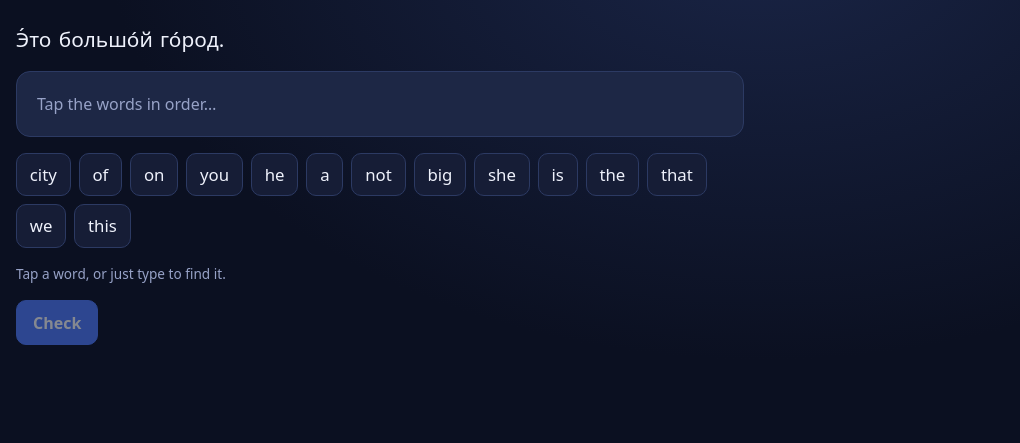
Scenario: WordBankExercise order-insensitive grading (#267) › shows the default translation next to the answer so they can be compared (#513)
What coordinates should you click on to do the following:
click the button with class "tile" showing "this"
I would click on:
 (102, 226)
Its box is [74,204,131,248].
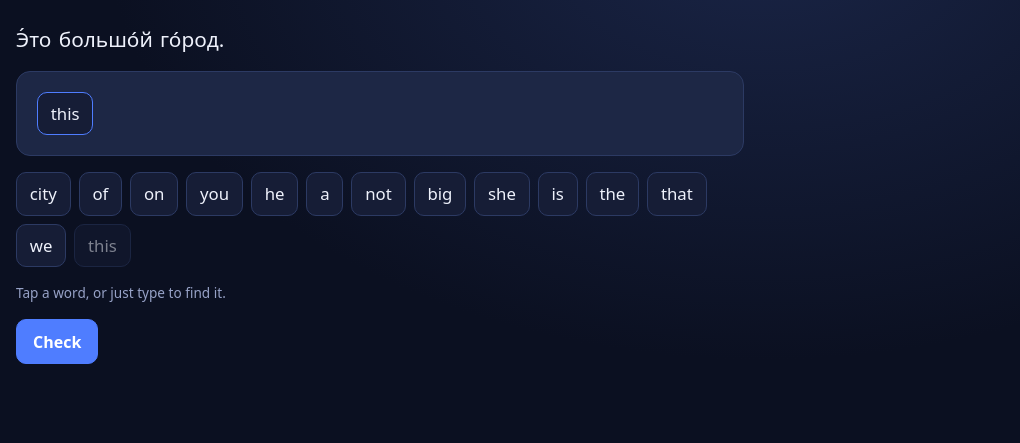
What coordinates should you click on to do the following:
click the button with class "tile" showing "city"
I would click on:
 (43, 194)
Its box is [16,172,71,216].
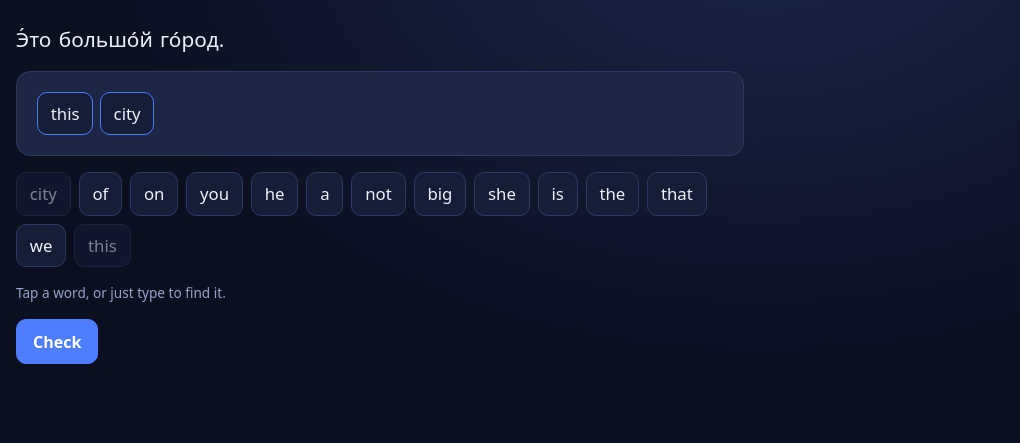
What coordinates should you click on to do the following:
click the button with class "tile" showing "is"
I would click on:
 (558, 194)
Its box is [538,172,578,216].
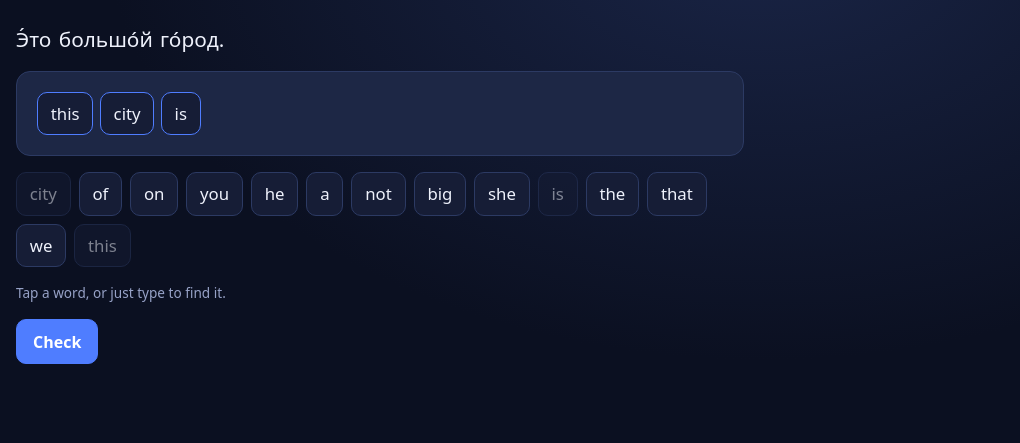
What coordinates should you click on to do the following:
click the button with class "tile" showing "big"
I would click on:
 (440, 194)
Its box is [414,172,466,216].
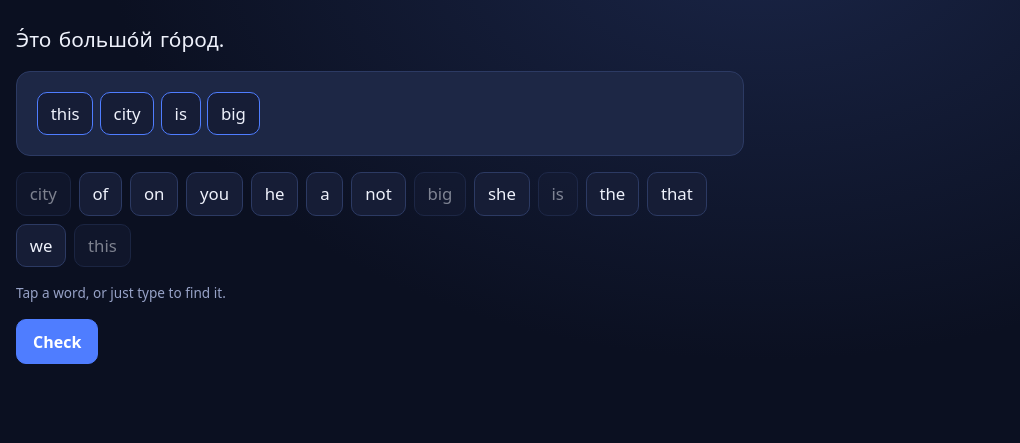
What coordinates should you click on to do the following:
click the button with class "check"
I would click on:
 (57, 342)
Its box is [16,319,98,364].
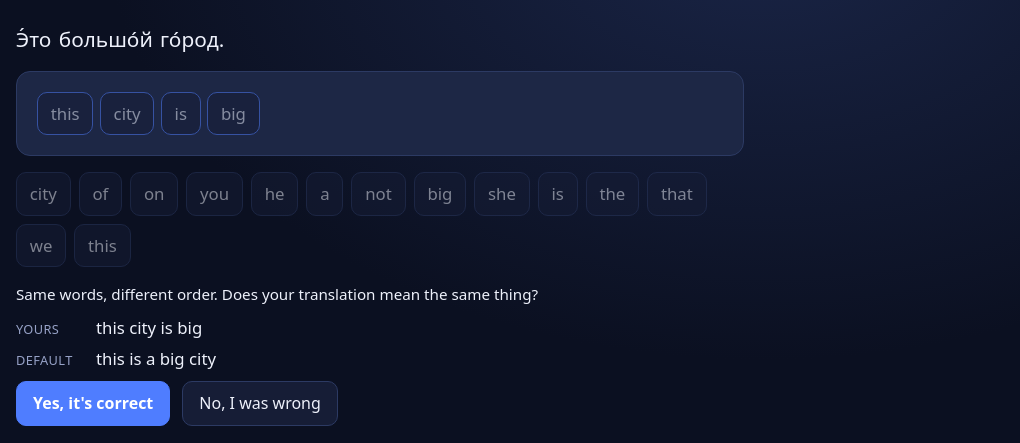
Result: the element with class "confirm-compare" is shown at [16,316,216,370]
Result: the element with class "confirm-compare" shows "this city is big" at [96,316,202,339]
Result: the element with class "confirm-compare" shows "this is a big city" at [96,347,216,370]
